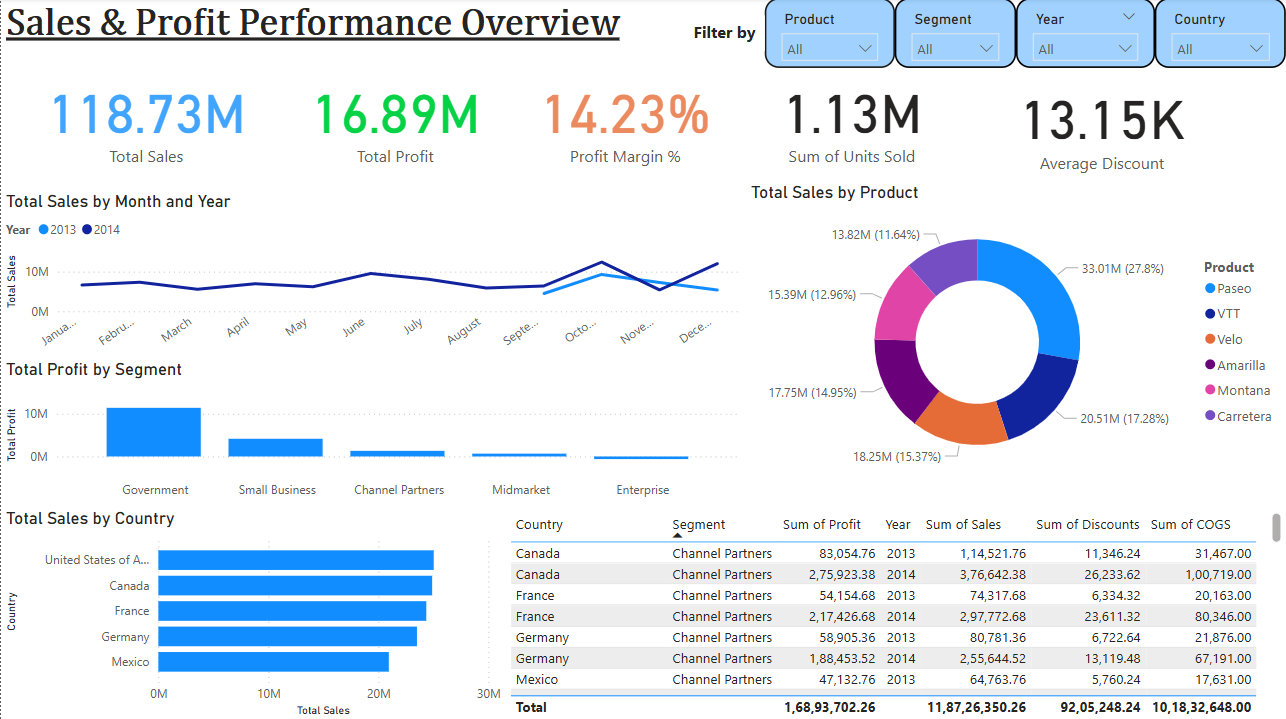

The dashboard page shown, as its layout file describes it:
{"tool":"powerbi","page":{"name":"Page 1","canvas":[1280,720],"ordinal":0},"visuals":[{"type":"card","fields":{"Values":["Sheet1.Total Profit"]},"box":[284,56.3,218.2,126.2],"z":0},{"type":"card","fields":{"Values":["Sheet1.Total Sales"]},"box":[0,56.3,289.5,126.2],"z":1000},{"type":"card","fields":{"Values":["Sheet1.Profit Margin"]},"box":[500.9,56.3,240.1,126.2],"z":2000},{"type":"card","fields":{"Values":["Sum(Sheet1.Units Sold)"]},"box":[741,56.3,211.3,126.2],"z":3000},{"type":"card","fields":{"Values":["Sheet1.Average Discount"]},"box":[952.9,69.7,286.1,112],"z":4000},{"type":"lineChart","fields":{"Y":["Sheet1.Total Sales"],"Category":["Sheet1.Date.Variation.Date Hierarchy.Month"],"Series":["Sheet1.Date.Variation.Date Hierarchy.Year"]},"box":[0,192.1,741,167.4],"z":5000},{"type":"barChart","fields":{"Category":["Sheet1.Country"],"Y":["Sheet1.Total Sales"]},"box":[0,507.7,502.2,212.7],"z":6000},{"type":"columnChart","fields":{"Category":["Sheet1.Segment"],"Y":["Sheet1.Total Profit"]},"box":[0,359.5,741,148.2],"z":7000},{"type":"donutChart","fields":{"Category":["Sheet1.Product"],"Y":["Sheet1.Total Sales"]},"box":[741,182.5,537.9,300.5],"z":8000},{"type":"tableEx","fields":{"Values":["Sheet1.Country","Sheet1.Segment","Sum(Sheet1.Profit)","Sheet1.Date.Variation.Date Hierarchy.Year","Sum(Sheet1.Sales)","Sum(Sheet1.Discounts)","Sum(Sheet1.COGS)"]},"box":[501.3,507.5,777.5,212.7],"z":9000},{"type":"slicer","fields":{"Values":["Sheet1.Date.Variation.Date Hierarchy.Year"]},"box":[1010.1,0,138.1,69.7],"z":10000},{"type":"slicer","fields":{"Values":["Sheet1.Country"]},"box":[1148.2,0,130.6,69.7],"z":11000},{"type":"slicer","fields":{"Values":["Sheet1.Segment"]},"box":[889.4,0,120.7,69.7],"z":12000},{"type":"slicer","fields":{"Values":["Sheet1.Product"]},"box":[760.1,0,129.4,69.7],"z":13000},{"type":"textbox","box":[684.2,17.4,75.9,34.8],"z":13001},{"type":"textbox","box":[0,0,684.2,69.7],"z":13002}]}

Visuals, with their boxes in screenshot pixels (x1, y1, x2, y2), scaled from the page's 1280x720 canvas onto the 1286x719 screenshot:
card - Sheet1.Total Profit: 285/56/505/182
card - Sheet1.Total Sales: 0/56/291/182
card - Sheet1.Profit Margin: 503/56/744/182
card - Sum(Sheet1.Units Sold): 744/56/957/182
card - Sheet1.Average Discount: 957/70/1245/181
lineChart - Sheet1.Total Sales x Sheet1.Date.Variation.Date Hierarchy.Month: 0/192/744/359
barChart - Sheet1.Country x Sheet1.Total Sales: 0/507/505/718
columnChart - Sheet1.Segment x Sheet1.Total Profit: 0/359/744/507
donutChart - Sheet1.Product x Sheet1.Total Sales: 744/182/1285/482
tableEx - Sheet1.Country x Sheet1.Segment: 504/507/1285/718
slicer - Sheet1.Date.Variation.Date Hierarchy.Year: 1015/0/1154/70
slicer - Sheet1.Country: 1154/0/1285/70
slicer - Sheet1.Segment: 894/0/1015/70
slicer - Sheet1.Product: 764/0/894/70
textbox: 687/17/764/52
textbox: 0/0/687/70
